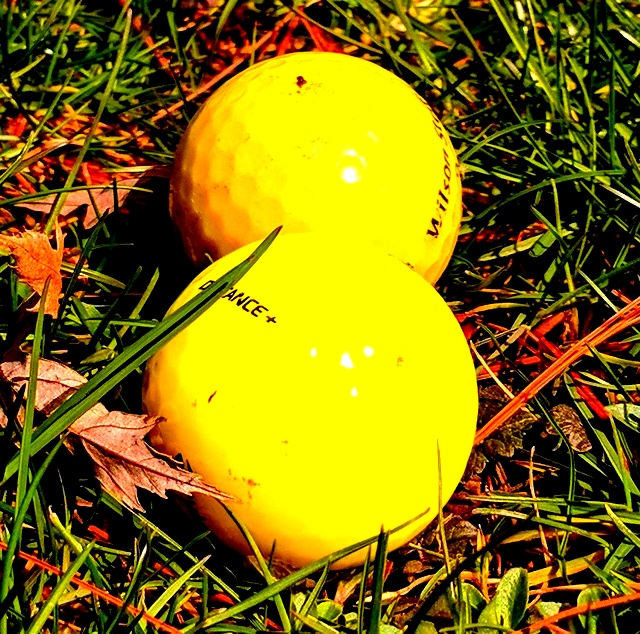ball: (138, 232, 482, 574)
